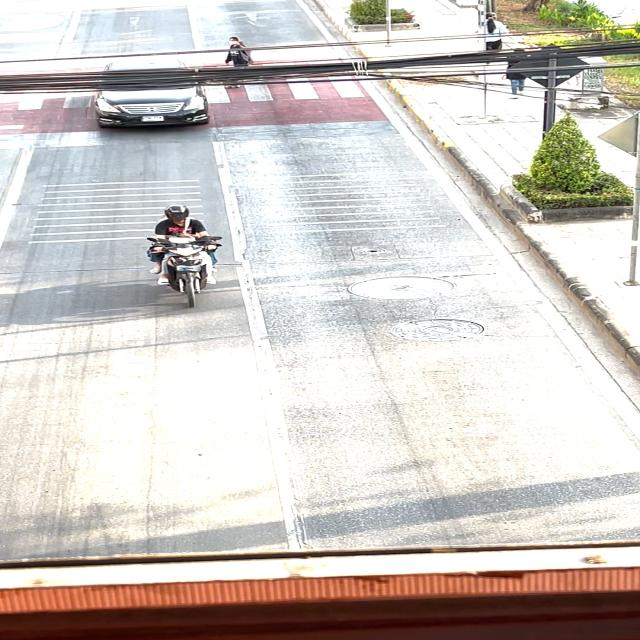car: (70, 57, 238, 134)
